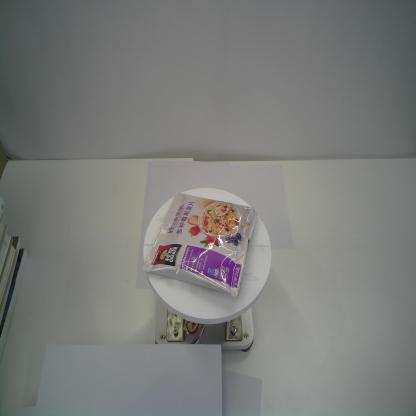Instant Drink: (141, 192, 258, 298)
